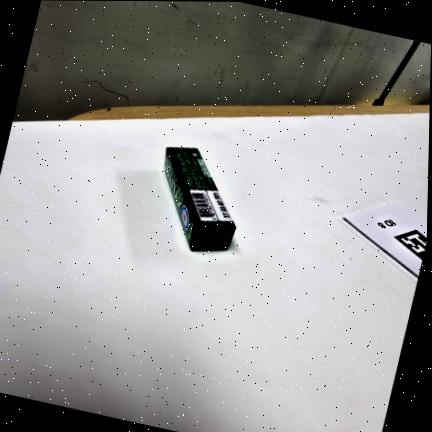gum_green: (164, 148, 236, 251)
